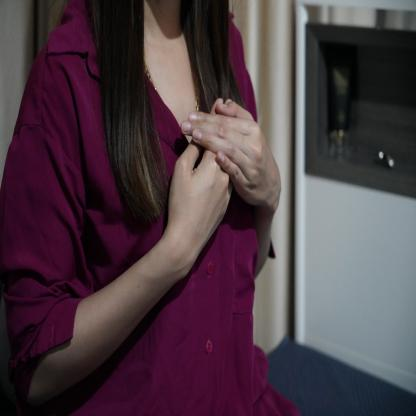Grieve: (149, 90, 285, 281)
